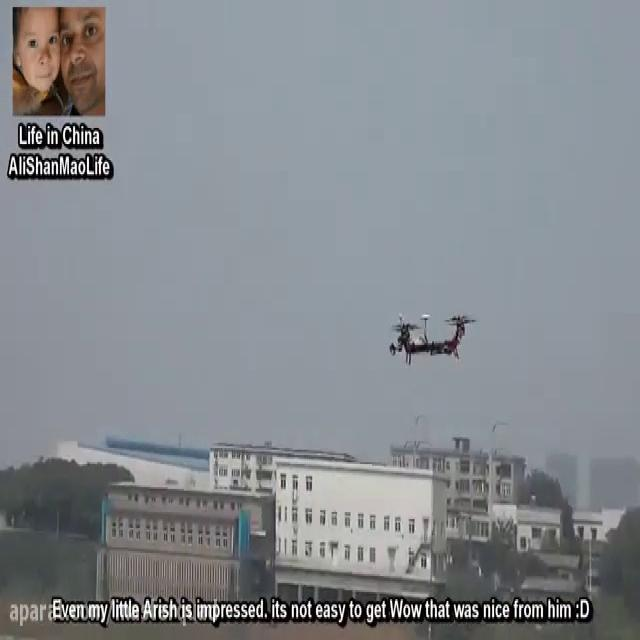drone: (384, 304, 480, 366)
